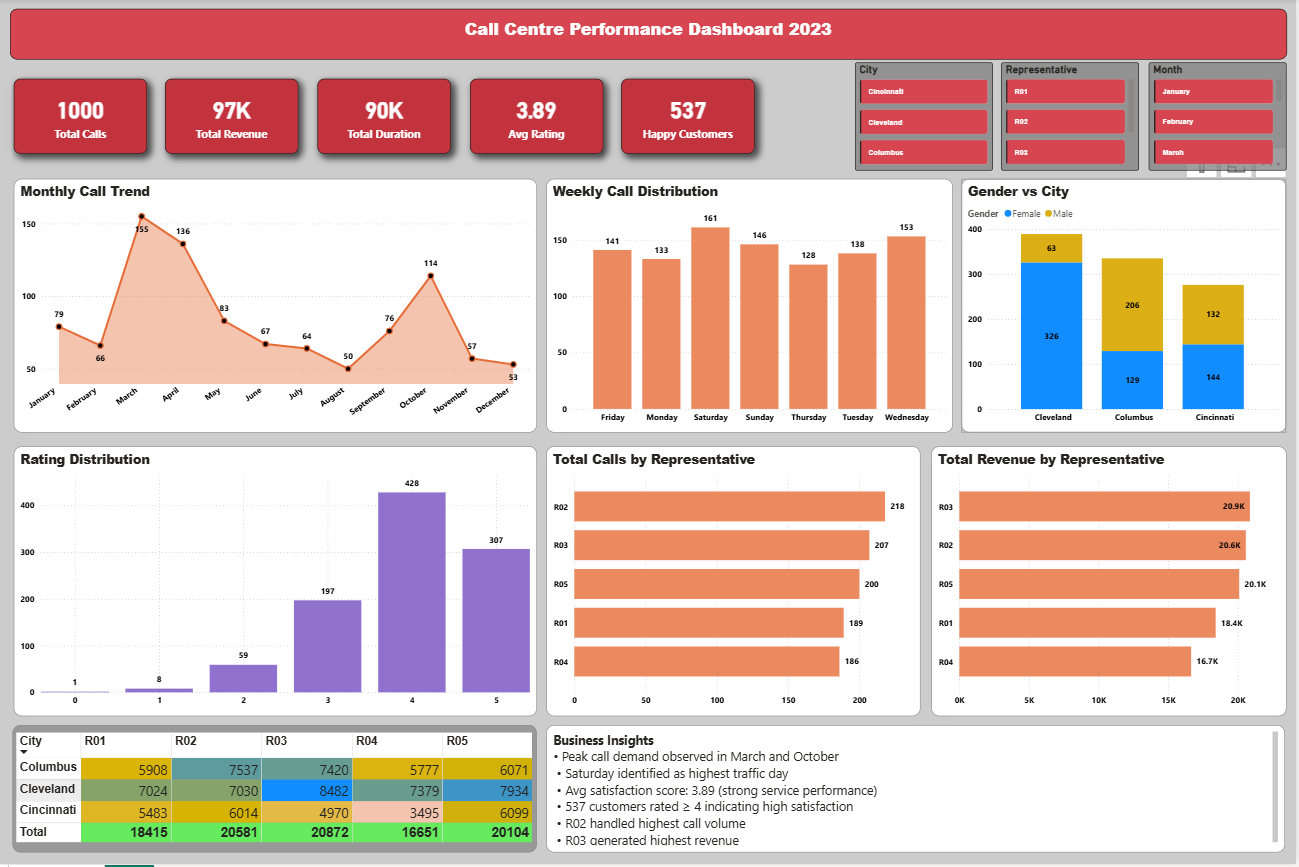

The page's visual inventory and layout, read from the dashboard file:
{"tool":"powerbi","page":{"name":"Page 1","canvas":[1920,1280],"ordinal":0},"visuals":[{"type":"lineChart","title":"Monthly Call Trend","fields":{"Category":["Calls.Call_Date.Variation.Date Hierarchy.Month"],"Y":["Calls.Total Calls"]},"box":[19.4,263.9,775,376.4],"z":0},{"type":"clusteredColumnChart","title":"Weekly Call Distribution","fields":{"Category":["Calls.Day_Name"],"Y":["Calls.Total Calls"]},"box":[809.7,263.9,602.8,376.4],"z":1000},{"type":"columnChart","title":"Gender vs City","fields":{"Category":["Calls.City"],"Y":["Calls.Total Calls"],"Series":["Customers.Gender"]},"box":[1423.6,263.9,481.9,376.4],"z":2000},{"type":"card","fields":{"Values":["Calls.Total Calls"]},"box":[19.4,116.7,197.2,111.1],"z":3000},{"type":"clusteredColumnChart","title":"Rating Distribution","fields":{"Y":["Calls.Total Calls"],"Category":["Calls.Rating rounded"]},"box":[19.4,661.1,775,400],"z":4000},{"type":"textbox","box":[14.2,12.5,1891.7,75],"z":5000},{"type":"card","fields":{"Values":["Calls.Happy Customers"]},"box":[920.8,116.7,197.2,111.1],"z":6000},{"type":"card","fields":{"Values":["Calls.Avg Rating"]},"box":[695.5,116.7,197.2,111.1],"z":7000},{"type":"card","fields":{"Values":["Calls.Total Duration"]},"box":[470.1,116.7,197.2,111.1],"z":8000},{"type":"card","fields":{"Values":["Calls.Total Revenue"]},"box":[244.8,116.7,197.2,111.1],"z":9000},{"type":"barChart","fields":{"Y":["Calls.Total Calls"],"Category":["Calls.Representative"]},"box":[809.7,661.1,554.2,400],"z":10000},{"type":"clusteredBarChart","fields":{"Category":["Calls.Representative"],"Y":["Calls.Total Revenue"]},"box":[1379.2,661.1,526.4,400],"z":11000},{"type":"advancedSlicerVisual","fields":{"Values":["Calls.City"]},"box":[1266.7,91.7,204.2,159.7],"z":12000},{"type":"advancedSlicerVisual","fields":{"Values":["Calls.Call_Date.Variation.Date Hierarchy.Month"]},"box":[1701.4,91.7,204.2,159.7],"z":13000},{"type":"advancedSlicerVisual","fields":{"Values":["Calls.Representative"]},"box":[1484,91.7,204.2,159.7],"z":14000},{"type":"pivotTable","fields":{"Rows":["Calls.City"],"Values":["Calls.Total Revenue"],"Columns":["Calls.Representative"]},"box":[18.6,1074.3,777.1,188.6],"z":15000},{"type":"textbox","box":[810,1074.3,1094.3,188.6],"z":16000}]}

Visuals, with their boxes in screenshot pixels (x1, y1, x2, y2), scaled from the page's 1920x1280 canvas onto the 1299x867 screenshot:
"Monthly Call Trend" lineChart: left=13, top=179, right=537, bottom=434
"Weekly Call Distribution" clusteredColumnChart: left=548, top=179, right=956, bottom=434
"Gender vs City" columnChart: left=963, top=179, right=1289, bottom=434
card - Calls.Total Calls: left=13, top=79, right=147, bottom=154
"Rating Distribution" clusteredColumnChart: left=13, top=448, right=537, bottom=719
textbox: left=10, top=8, right=1289, bottom=59
card - Calls.Happy Customers: left=623, top=79, right=756, bottom=154
card - Calls.Avg Rating: left=471, top=79, right=604, bottom=154
card - Calls.Total Duration: left=318, top=79, right=451, bottom=154
card - Calls.Total Revenue: left=166, top=79, right=299, bottom=154
barChart - Calls.Total Calls x Calls.Representative: left=548, top=448, right=923, bottom=719
clusteredBarChart - Calls.Representative x Calls.Total Revenue: left=933, top=448, right=1289, bottom=719
advancedSlicerVisual - Calls.City: left=857, top=62, right=995, bottom=170
advancedSlicerVisual - Calls.Call_Date.Variation.Date Hierarchy.Month: left=1151, top=62, right=1289, bottom=170
advancedSlicerVisual - Calls.Representative: left=1004, top=62, right=1142, bottom=170
pivotTable - Calls.City x Calls.Total Revenue: left=13, top=728, right=538, bottom=855
textbox: left=548, top=728, right=1288, bottom=855
